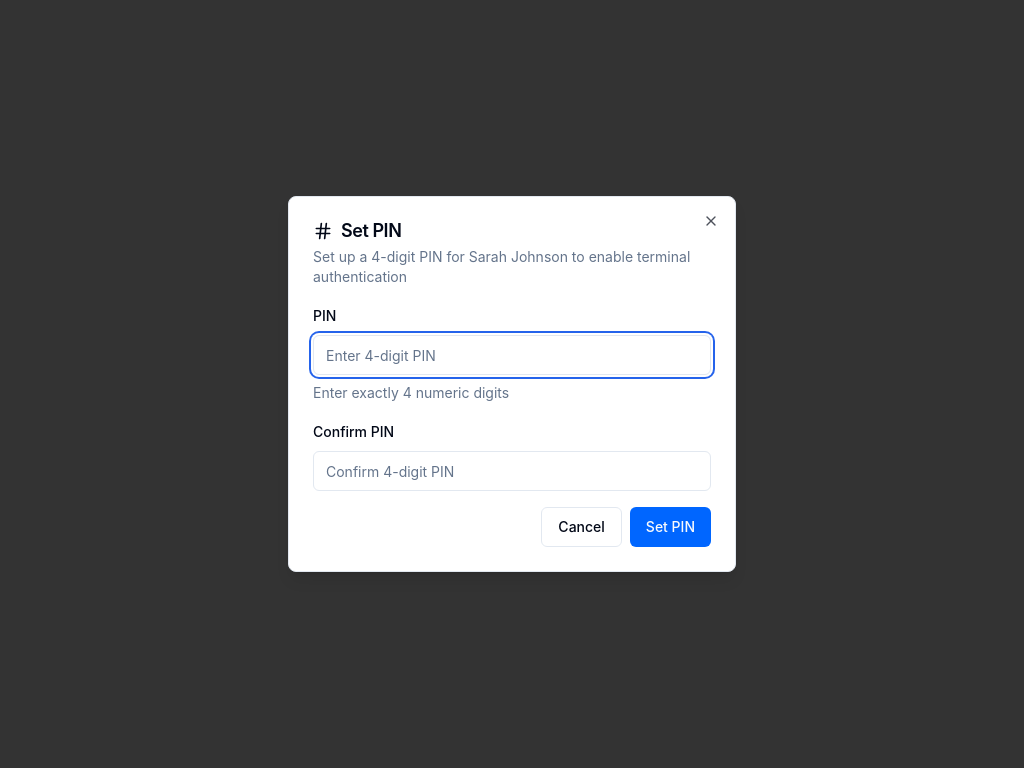
Test: SetEmployeePINModal Component › PIN Input Validation › UPIN-COMP-010: should prevent entering more than 4 digits via maxLength
The image size is (1024, 768).
Type "123456" into the password field with test id "pin-input". click: coordinates (512, 355)
box: [313, 335, 711, 375]
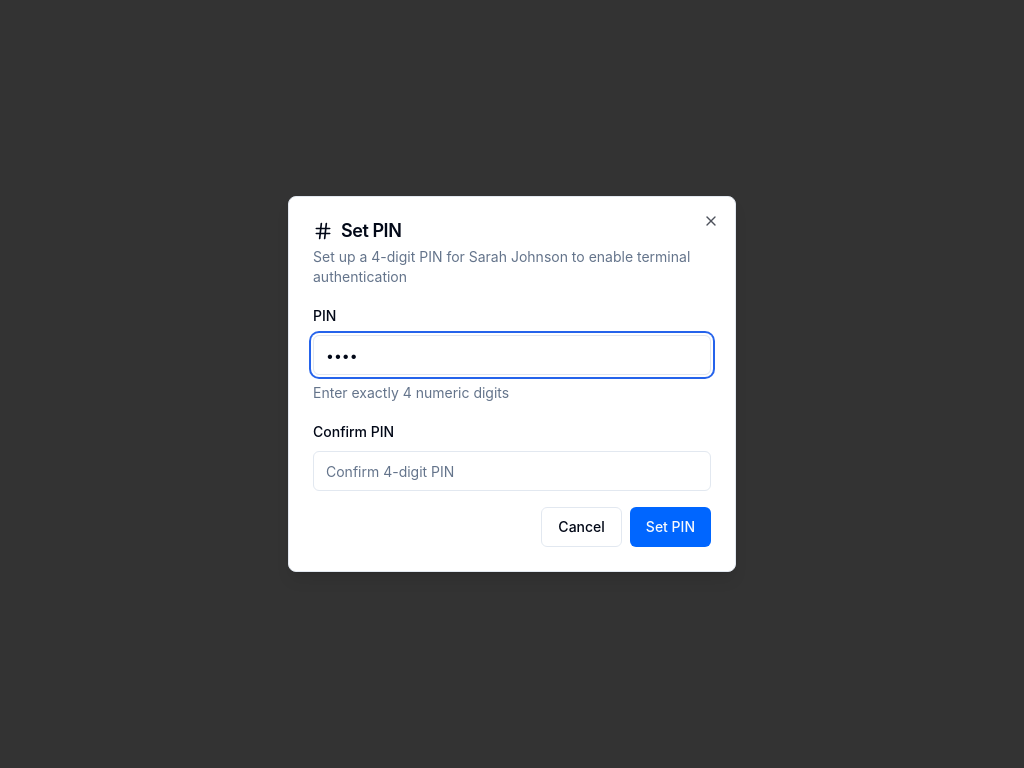
Result: the password field with test id "pin-input" holds "1234" at [313, 335, 711, 375]
